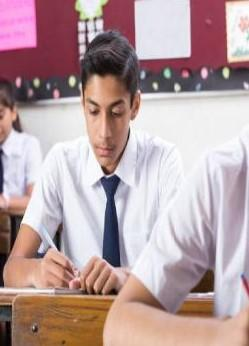good: (1, 24, 198, 293)
